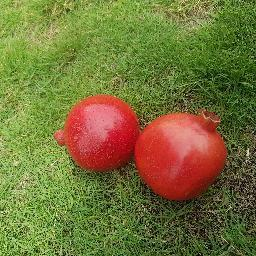Good_pomegranate: (146, 91, 227, 204), (50, 89, 136, 172)
